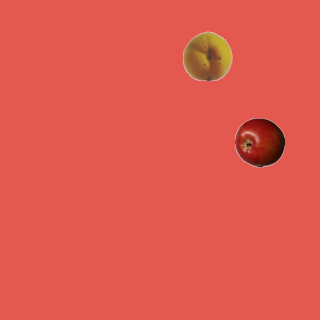Apple Braeburn: (234, 117, 284, 167)
Peach 2: (182, 30, 232, 80)
